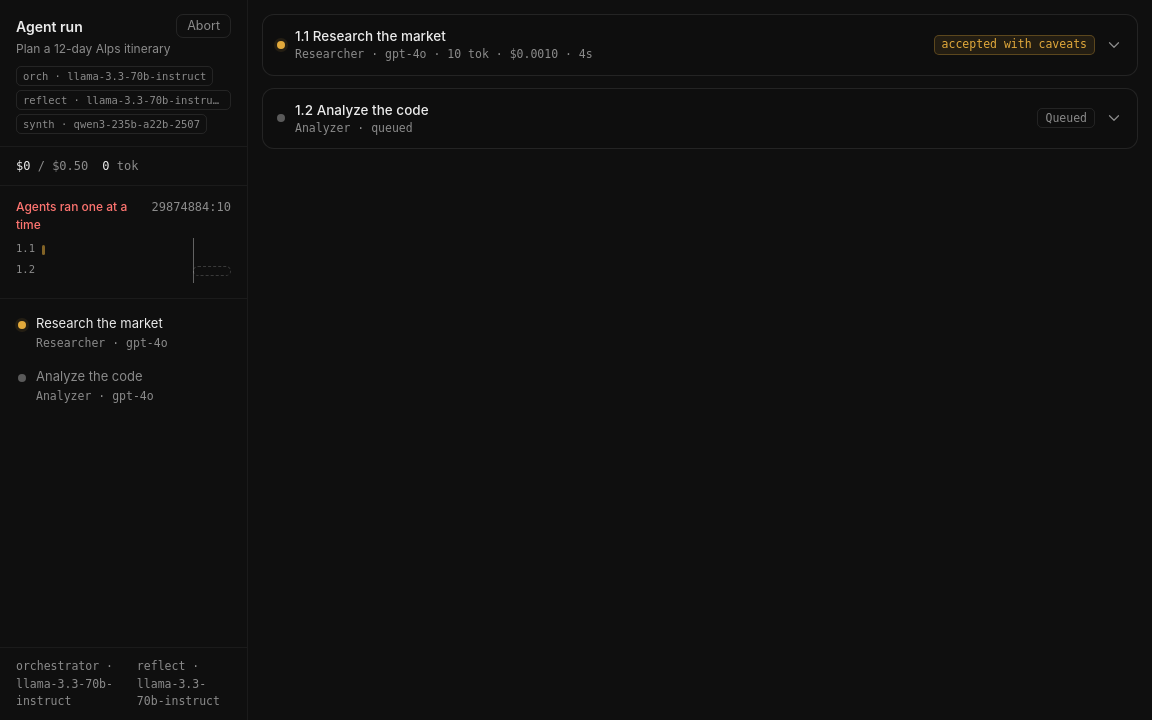
Test: steps accepted with caveats (reflection hardening Phase 7) › an amber "accepted with caveats" badge, the amber (not failed) dot in the plan and the card, and the issues in the detail
Click the button named "Expand trace" next to "accepted with caveats" at point(1114, 45), box [1105,36,1123,54]
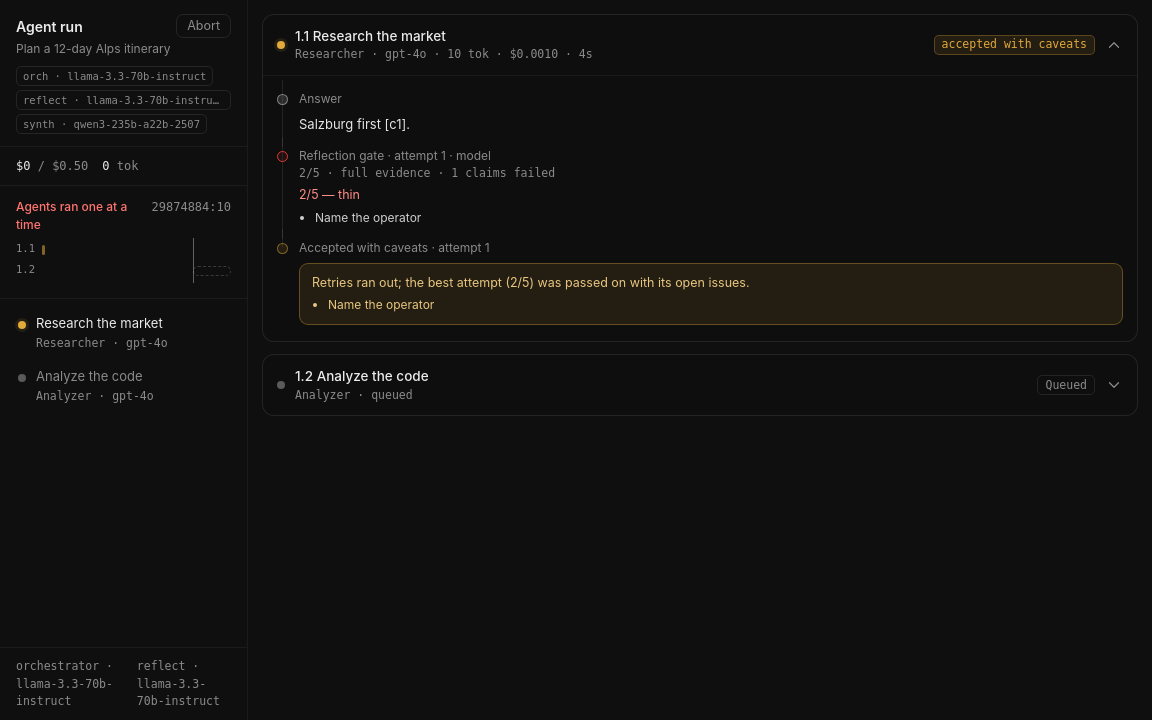
Result: the element with test id "degraded-detail" shows "Accepted with caveats · attempt 1" at [277,229,1123,327]
Result: the element with test id "degraded-detail" shows "Retries ran out; the best attempt (2/5) was passed on with its open issues." at [312,275,750,290]
Result: the list item "Name the operator" below "Accepted with caveats · attempt" is shown at [328,297,434,312]
